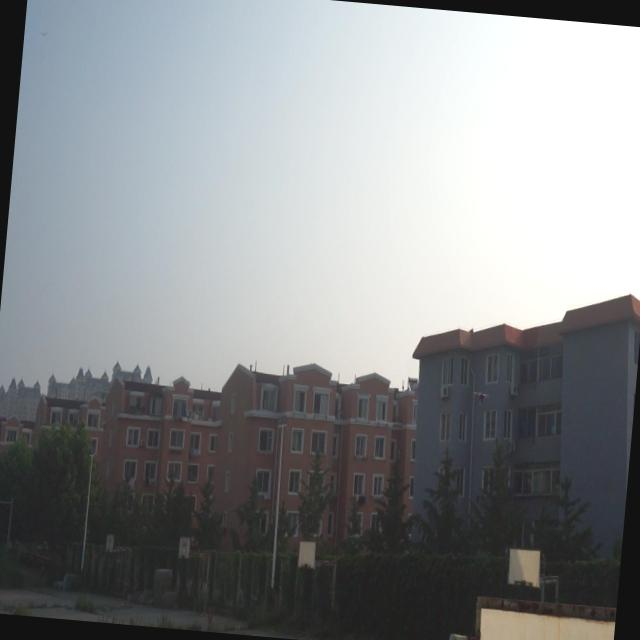drone: (469, 386, 493, 408)
